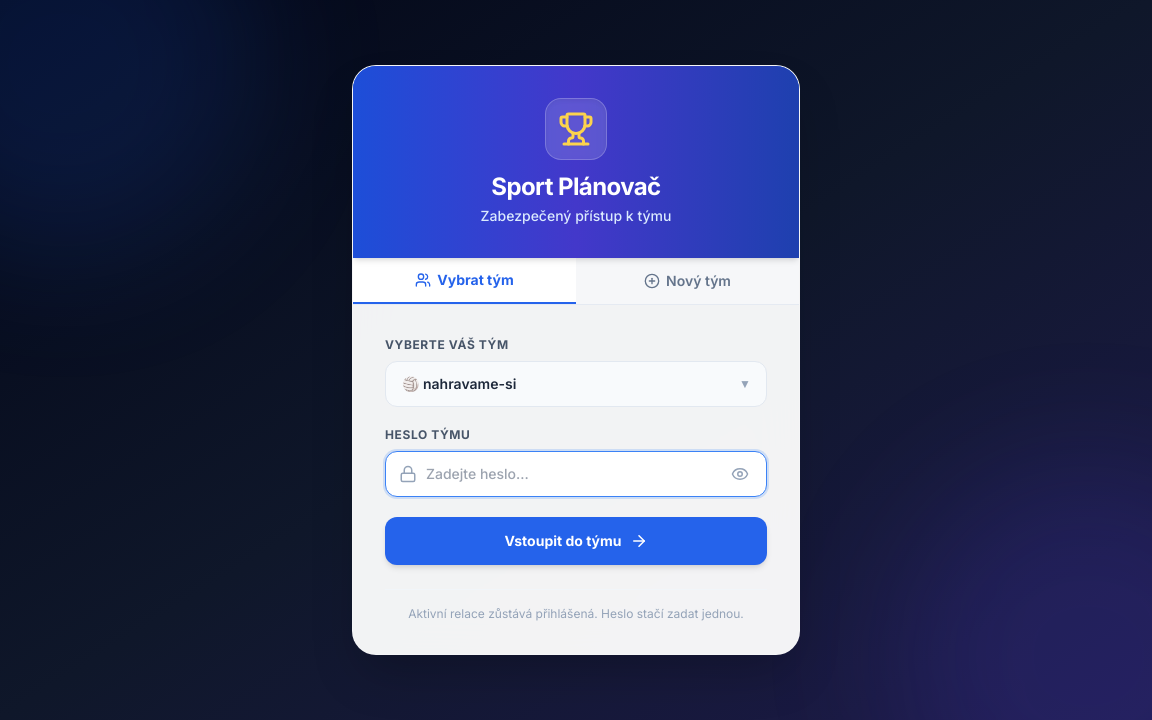
TeamLoginScreen › displays error message when login fails
Type "wrongpass" into the password field with placeholder "Zadejte heslo...".
click(576, 474); type("wrongpass")  # box [385,451,767,497]
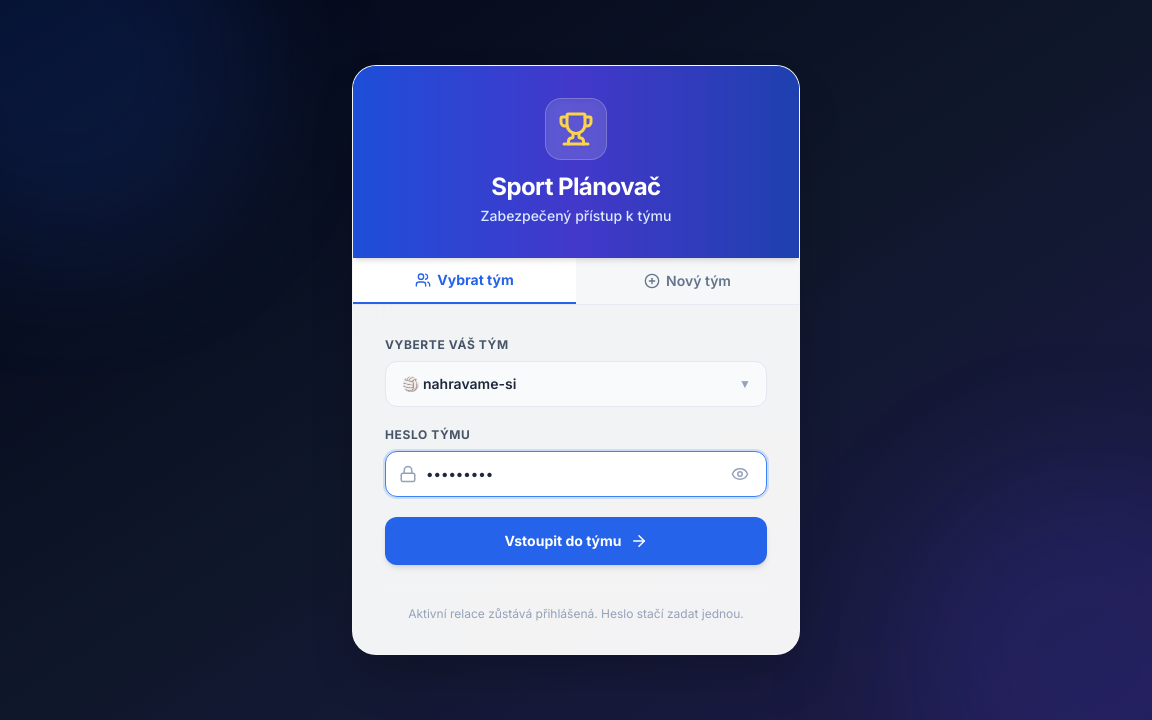
Click the button "Vstoupit do týmu".
click(576, 541)  # box [385,517,767,565]
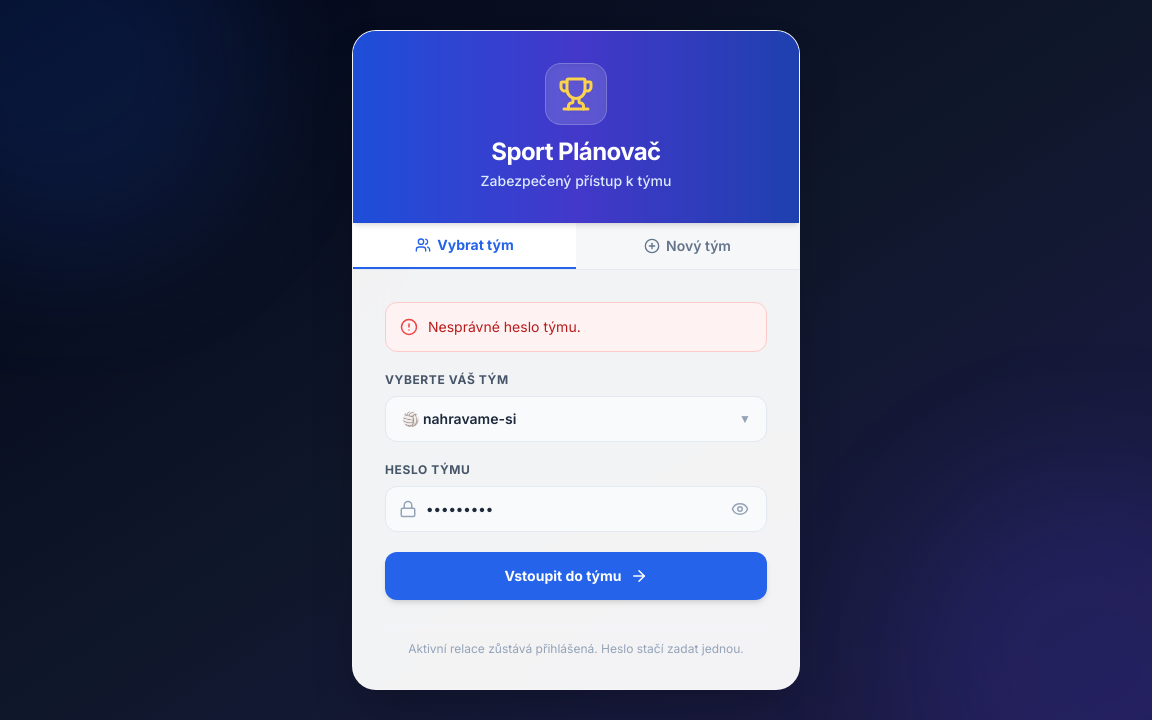
Now the text "Nesprávné heslo týmu." is shown, box [428,317,581,337]
